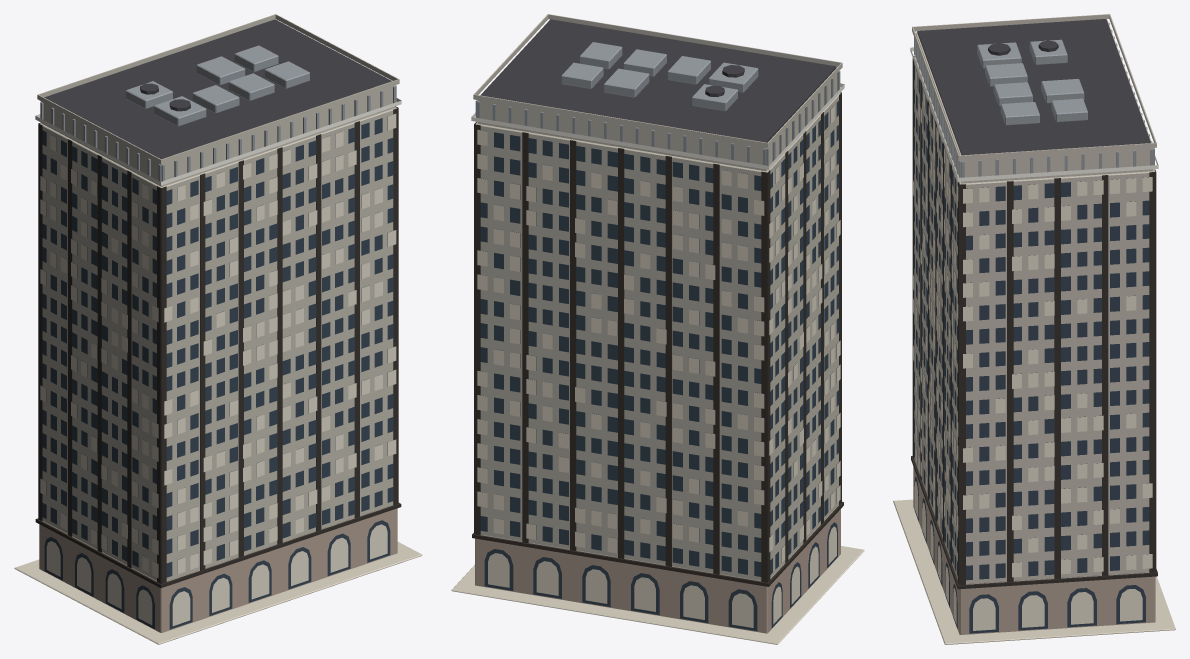
Rendered from 111-pine-street.glb.
3 views of the same model, side by side, from view 1: azimuth 30°, elevation 25°; view 2: azimuth 150°, elevation 25°; view 3: azimuth 270°, elevation 25° (orthographic). The views are drawn at different scales.
Visible parts, largest first — view 1: 111-pine-street_body, 111-pine-street_night_glow; view 2: 111-pine-street_body, 111-pine-street_night_glow; view 3: 111-pine-street_body, 111-pine-street_night_glow.
Boxes of the visible parts, left/top/right/bottom form: 111-pine-street_body: left=14, top=14, right=422, bottom=644; 111-pine-street_night_glow: left=35, top=98, right=401, bottom=625; 111-pine-street_body: left=451, top=14, right=864, bottom=644; 111-pine-street_night_glow: left=471, top=83, right=844, bottom=627; 111-pine-street_body: left=893, top=14, right=1175, bottom=644; 111-pine-street_night_glow: left=910, top=47, right=1158, bottom=630.
Bounding box in the file's own units: 52.47 × 76 × 39.67.
